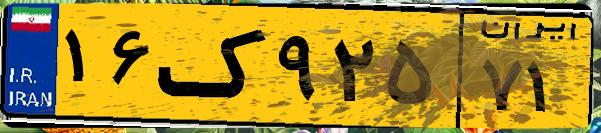1: (57, 26, 110, 100), (525, 38, 570, 115)
2: (330, 28, 385, 110)
5: (385, 28, 445, 110)
6: (110, 28, 158, 98)
7: (475, 38, 525, 113)
9: (270, 28, 330, 110)
ک: (158, 12, 270, 120)
